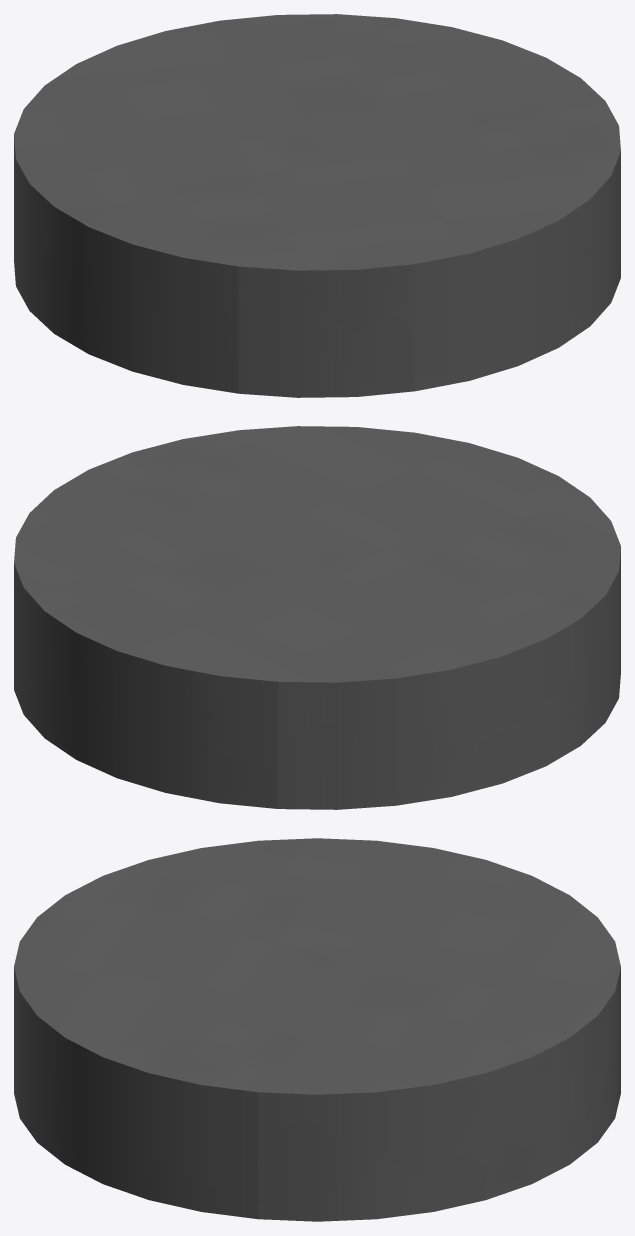
The model's file is backrest__selector_hole_0.glb.
The picture shows the model from 3 angles, top to bottom: view 1: azimuth 30°, elevation 25°; view 2: azimuth 150°, elevation 25°; view 3: azimuth 270°, elevation 25°; orthographic projection.
Parts seen in each view (by area): view 1: world; view 2: world; view 3: world.
Boxes of the visible parts, x1,y1,x2,y2 form: world: (14, 14, 620, 397); world: (14, 426, 620, 809); world: (14, 838, 620, 1221).
Bounding box in the file's own units: 0.026 × 0.006 × 0.026.
Materials: 1 (1 with a texture image).
